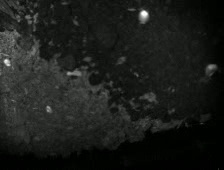corn: (204, 62, 219, 80), (136, 9, 151, 25), (1, 56, 13, 68), (43, 103, 55, 114)
